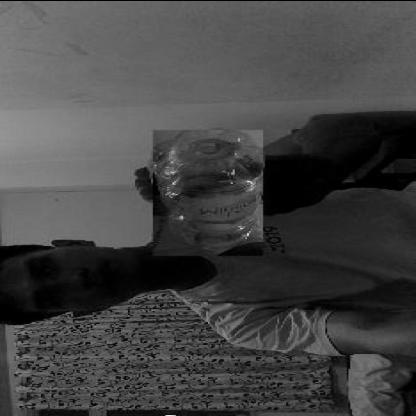plastic_bottles: (153, 129, 263, 255)
